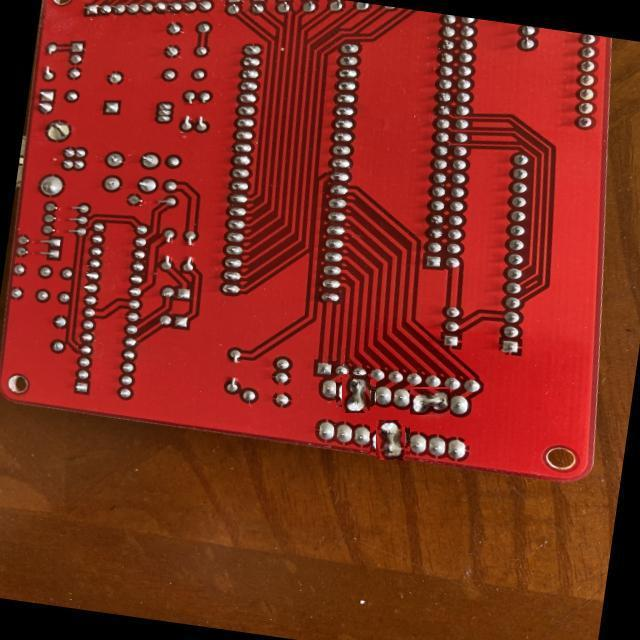damged: (373, 422, 408, 458), (339, 376, 373, 410), (410, 388, 450, 416)
